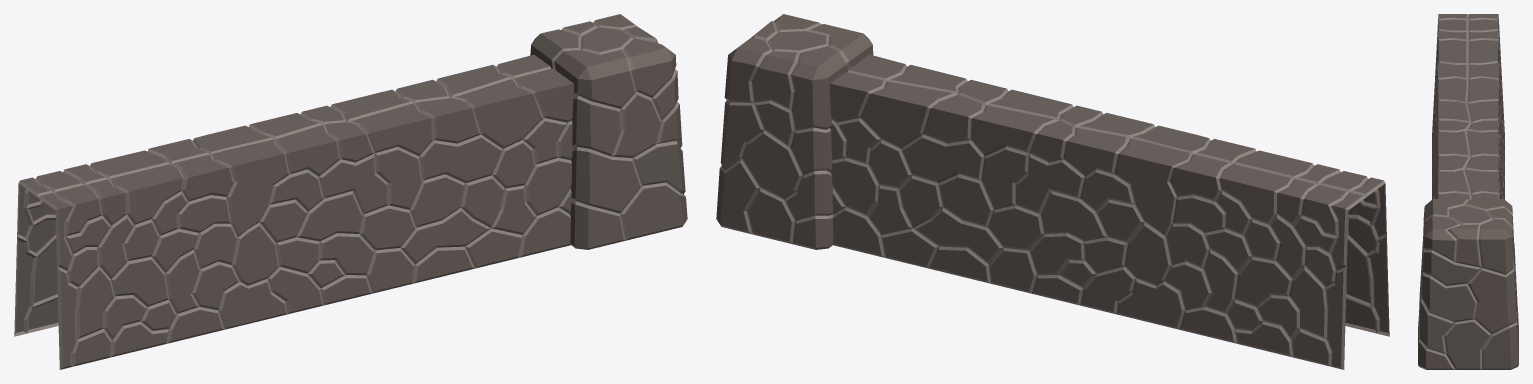
Rendered from Basement_Long.fbx.
3 renders of one model, left to right at view 1: azimuth 30°, elevation 25°; view 2: azimuth 150°, elevation 25°; view 3: azimuth 270°, elevation 25°, orthographic. The views are drawn at different scales.
Parts seen in each view (by area): view 1: Basement_Long; view 2: Basement_Long; view 3: Basement_Long.
Boxes of the visible parts, <box> form: Basement_Long: <box>14,14,687,369</box>; Basement_Long: <box>716,14,1389,369</box>; Basement_Long: <box>1418,14,1518,369</box>.
Size of the model in its own units: 3.96 by 0.7186 by 1.07.
